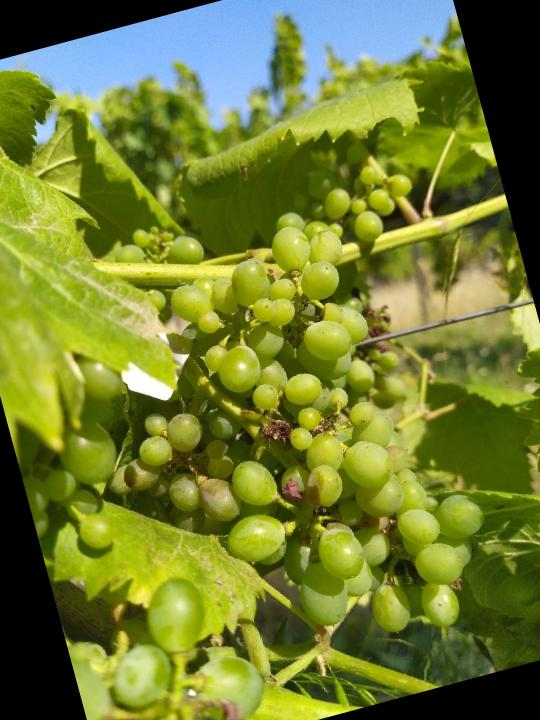grape: (57, 194, 514, 711), (280, 121, 428, 259)
